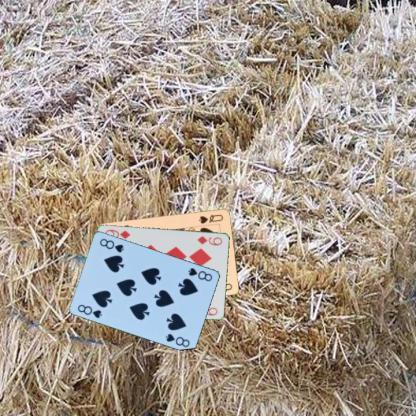8s: (75, 301, 104, 320), (186, 265, 214, 283)
9d: (195, 233, 224, 247)
Qs: (197, 211, 224, 225)
